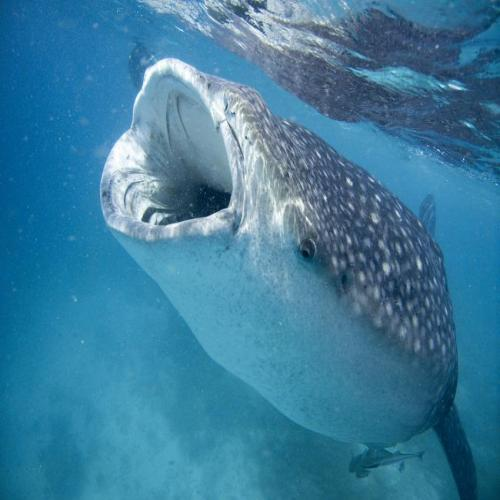shark-endangered: (101, 57, 478, 500)
